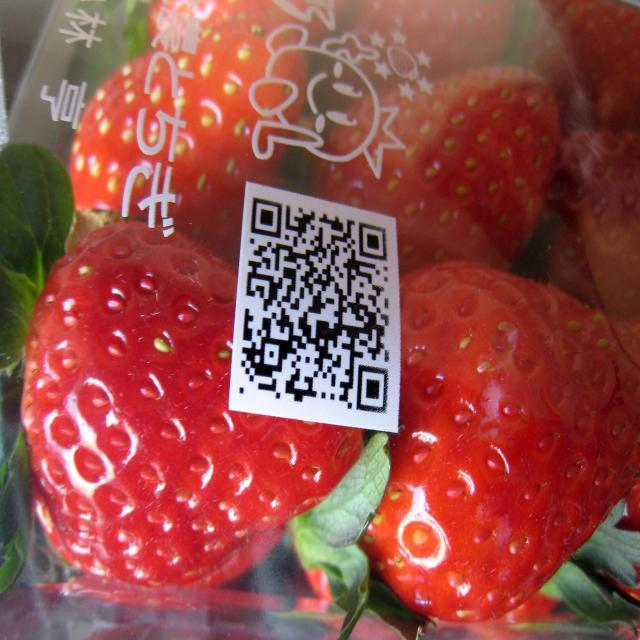qrcode: (240, 199, 390, 414)
